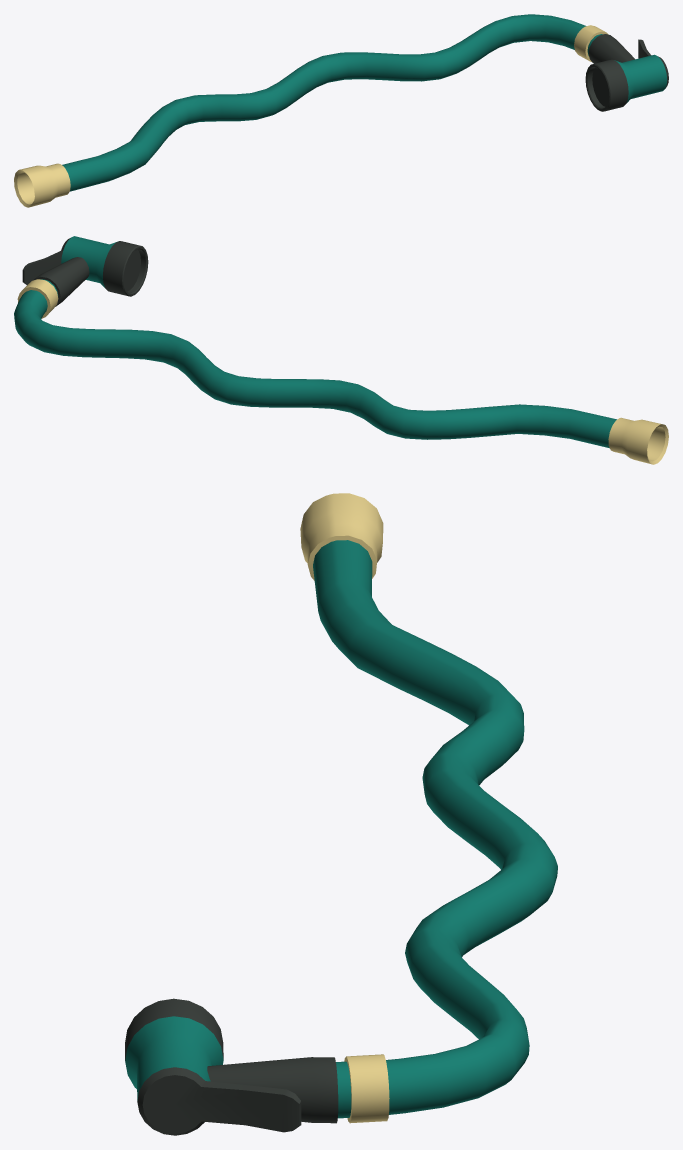
File: Hose.fbx
3 views of the same model, one above another, from view 1: azimuth 30°, elevation 25°; view 2: azimuth 150°, elevation 25°; view 3: azimuth 270°, elevation 25° (orthographic). The views are drawn at different scales.
Parts seen in each view (by area): view 1: pCylinder2; view 2: pCylinder2; view 3: pCylinder2.
Part boxes in pixels (x1=…): pCylinder2: x1=14, y1=14, x2=668, y2=207; pCylinder2: x1=14, y1=236, x2=668, y2=464; pCylinder2: x1=125, y1=493, x2=557, y2=1135.
Size of the model in its own units: 30.64 by 2.16 by 9.49.
